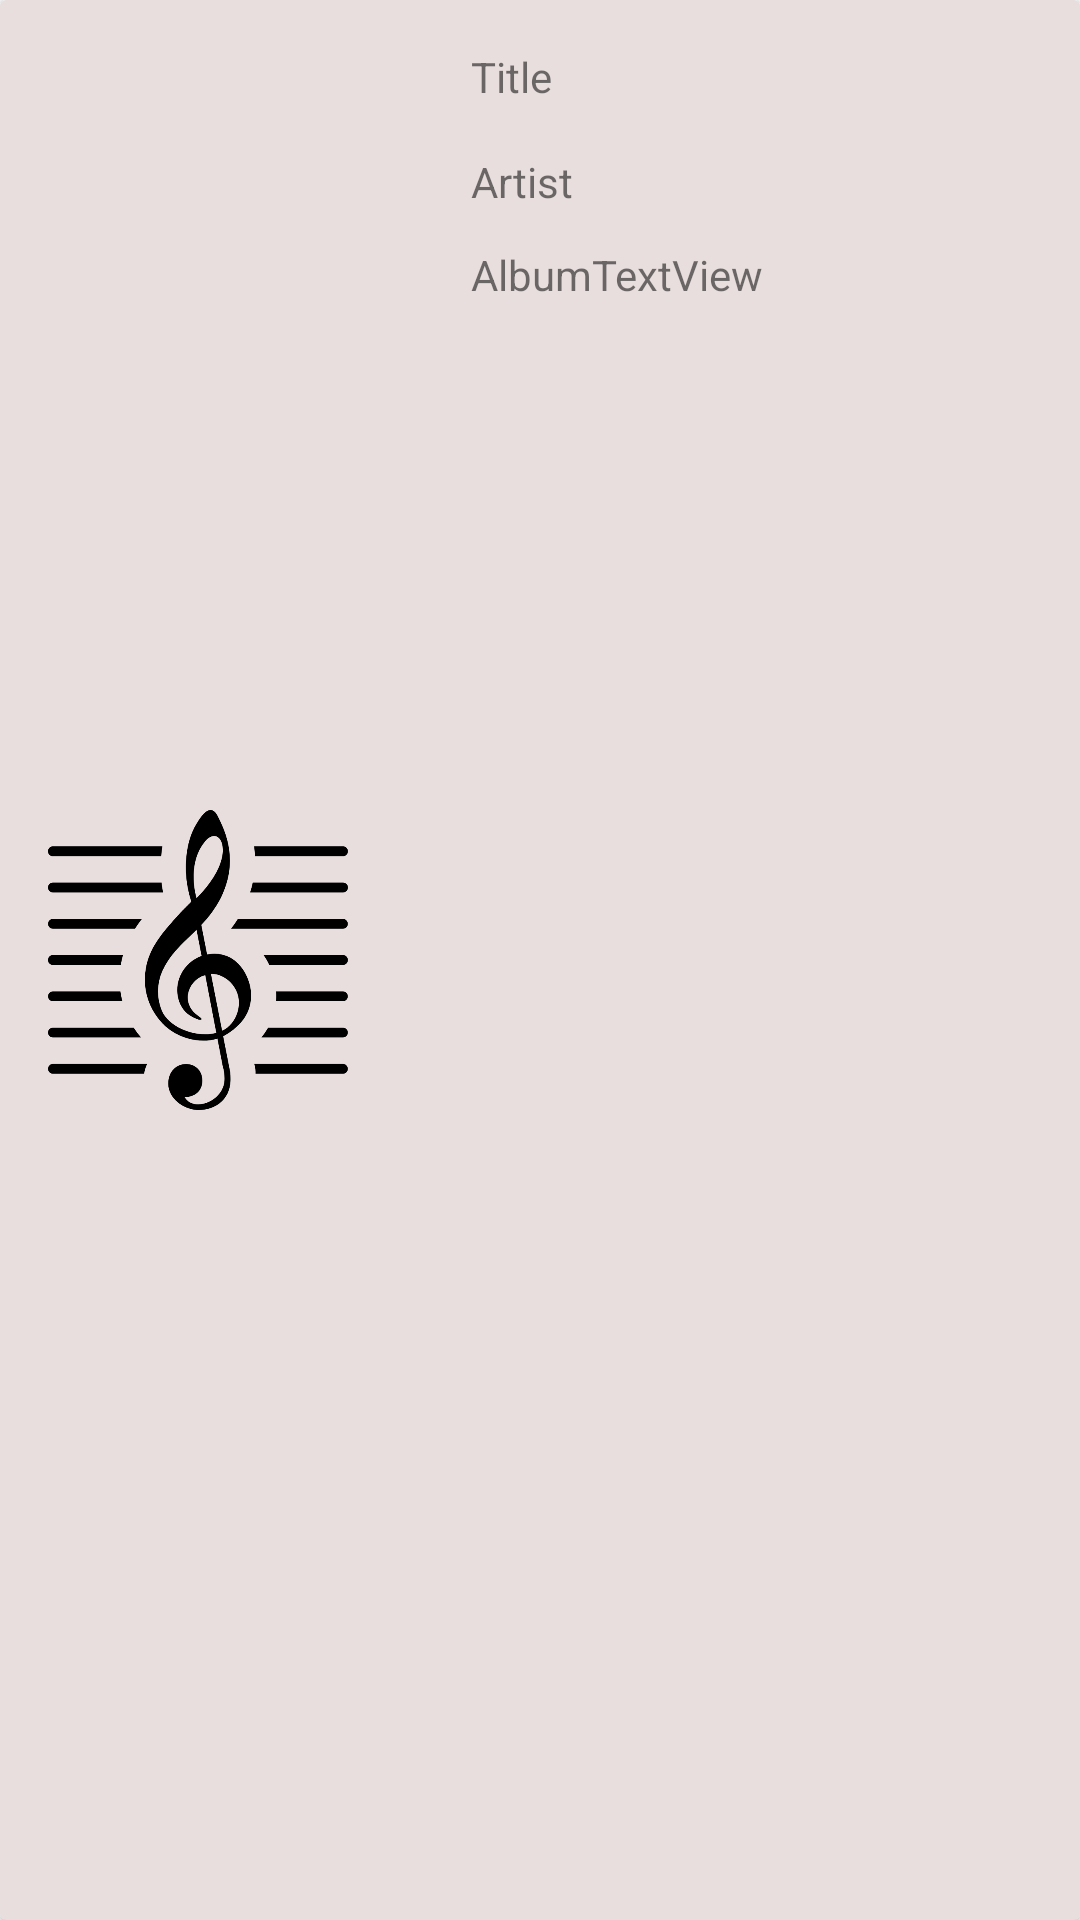

Screen size 1080 x 1920. Icon name, then its box in pixels as bbox=[x1, y1, x2, y2]:
music: bbox=[48, 810, 348, 1110]
